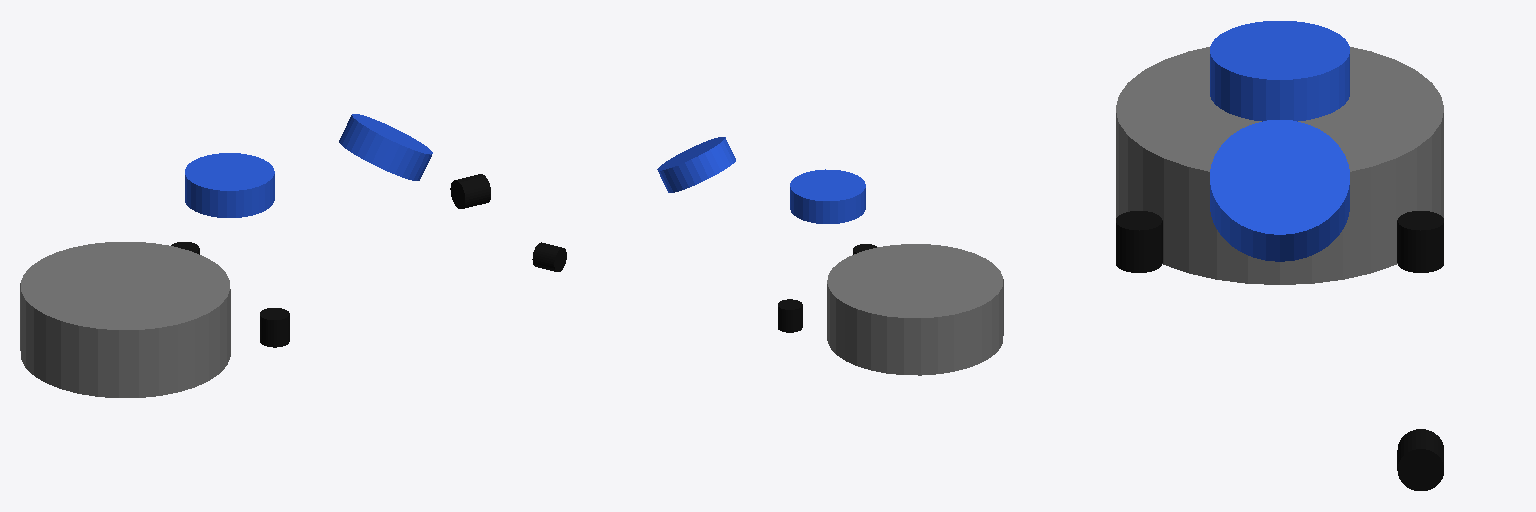
robot.urdf — inpipe_sensors_vlp16_l515:
<?xml version="1.0"?>
<robot name="inpipe_sensors_vlp16_l515" xmlns:xacro="http://www.ros.org/wiki/xacro">


<link name="gazebo_world"/>

<joint name="world_to_base" type="fixed">
  <parent link="gazebo_world"/>
  <child link="base_link"/>
  <origin xyz="0 0 0" rpy="0 0 0"/>
</joint>

<!-- LEFT sonar -->
<link name="sonar_left_link">
  <visual>
    <origin xyz="0 0 0" rpy="0 0 0"/>
    <geometry><cylinder radius="0.01" length="0.02"/></geometry>
    <material name="black"><color rgba="0.1 0.1 0.1 1"/></material>
  </visual>
  <collision>
    <geometry><cylinder radius="0.01" length="0.02"/></geometry>
  </collision>
  <inertial>
    <mass value="0.02"/>
    <inertia ixx="1e-5" iyy="1e-5" izz="1e-5" ixy="0" ixz="0" iyz="0"/>
  </inertial>
</link>

<joint name="base_to_sonar_left" type="fixed">
  <!-- ~6 cm to the left of the camera -->
  <origin xyz="0.08 0.06 0" rpy="0 0 0"/>
  <parent link="base_link"/>
  <child  link="sonar_left_link"/>
</joint>

<!-- RIGHT sonar -->
<link name="sonar_right_link">
  <visual>
    <origin xyz="0 0 0" rpy="0 0 0"/>
    <geometry><cylinder radius="0.01" length="0.02"/></geometry>
    <material name="black"><color rgba="0.1 0.1 0.1 1"/></material>
  </visual>
  <collision>
    <geometry><cylinder radius="0.01" length="0.02"/></geometry>
  </collision>
  <inertial>
    <mass value="0.02"/>
    <inertia ixx="1e-5" iyy="1e-5" izz="1e-5" ixy="0" ixz="0" iyz="0"/>
  </inertial>
</link>

<joint name="base_to_sonar_right" type="fixed">
  <!-- ~6 cm to the right of the camera -->
  <origin xyz="0.08 -0.06 0" rpy="0 0 0"/>
  <parent link="base_link"/>
  <child  link="sonar_right_link"/>
</joint>

<!-- Laser Profiler -->
<link name="laser_profiler_link">
  <visual>
    <origin xyz="0 0 0" rpy="0 0 0"/>
    <geometry><cylinder radius="0.01" length="0.02"/></geometry>
    <material name="black"><color rgba="0.1 0.1 0.1 1"/></material>
  </visual>
  <collision>
    <geometry><cylinder radius="0.01" length="0.02"/></geometry>
  </collision>
  <inertial>
    <mass value="0.02"/>
    <inertia ixx="1e-5" iyy="1e-5" izz="1e-5" ixy="0" ixz="0" iyz="0"/>
  </inertial>
</link>

<!--<joint name="base_to_laser_profiler" type="fixed">-->
<!--  <origin xyz="0.7 -0.06 0" rpy="0 1.5708 0"/>-->
<!--  <parent link="base_link"/>-->
<!--  <child  link="laser_profiler_link"/>-->
<!--</joint>-->

<joint name="base_to_laser_profiler" type="fixed">
  <origin xyz="0.3 0.06 0" rpy="0 1.5708 0"/>
  <parent link="base_link"/>
  <child  link="laser_profiler_link"/>
</joint>


  <!-- ================= Base ================= -->
  <link name="base_link">
    <inertial>
      <origin xyz="0 0 0" rpy="0 0 0"/>
      <mass value="1.0"/>
      <inertia ixx="0.002" ixy="0" ixz="0" iyy="0.002" iyz="0" izz="0.002"/>
    </inertial>
    <visual>
      <origin xyz="0 0 0" rpy="0 0 0"/>
      <geometry><cylinder radius="0.07" length="0.05"/></geometry>
      <material name="Gray"><color rgba="0.5 0.5 0.5 1"/></material>
    </visual>
    <collision>
      <origin xyz="0 0 0" rpy="0 0 0"/>
      <geometry><cylinder radius="0.07" length="0.05"/></geometry>
    </collision>
  </link>

  <!-- ================= VLP16-like LiDAR link ================= -->
  <link name="lidar_link">
    <inertial>
      <origin xyz="0 0 0" rpy="0 0 0"/>
      <mass value="0.3"/>
      <inertia ixx="0.0005" ixy="0" ixz="0" iyy="0.0005" iyz="0" izz="0.0005"/>
    </inertial>
    <visual>
      <origin xyz="0 0 0" rpy="0 0 0"/>
      <geometry><cylinder radius="0.03" length="0.02"/></geometry>
      <material name="Blue"><color rgba="0.2 0.4 0.9 1"/></material>
    </visual>
    <collision>
      <origin xyz="0 0 0" rpy="0 0 0"/>
      <geometry><cylinder radius="0.03" length="0.02"/></geometry>
    </collision>
  </link>
  
  <link name="rplidar_link">
    <inertial>
      <origin xyz="0 0 0" rpy="0 0 0"/>
      <mass value="0.3"/>
      <inertia ixx="0.0005" ixy="0" ixz="0" iyy="0.0005" iyz="0" izz="0.0005"/>
    </inertial>
    <visual>
      <origin xyz="0 0 0" rpy="0 0 0"/>
      <geometry><cylinder radius="0.03" length="0.02"/></geometry>
      <material name="Blue"><color rgba="0.2 0.4 0.9 1"/></material>
    </visual>
    <collision>
      <origin xyz="0 0 0" rpy="0 0 0"/>
      <geometry><cylinder radius="0.03" length="0.02"/></geometry>
    </collision>
  </link>

  <!-- ================= L515-like sensor link ================= -->
  <link name="l515_link">
    <inertial>
      <origin xyz="0 0 0" rpy="0 0 0"/>
      <mass value="0.1"/>
      <inertia ixx="0.0002" ixy="0" ixz="0" iyy="0.0002" iyz="0" izz="0.0002"/>
    </inertial>
    <visual>
      <origin xyz="0 0 0" rpy="0 0 0"/>
      <geometry><cylinder radius="0.03" length="0.026"/></geometry>
      <material name="Black"><color rgba="0.1 0.1 0.1 1"/></material>
    </visual>
    <collision>
      <origin xyz="0 0 0" rpy="0 0 0"/>
      <geometry><cylinder radius="0.03" length="0.026"/></geometry>
    </collision>
  </link>

  <!-- ================= Fixed joints (both to base_link) ================= -->
  <joint name="base_to_lidar" type="fixed">
    <parent link="base_link"/>
    <child link="lidar_link"/>
    <origin xyz="0.2 0 0.08" rpy="0 0.523599 0"/>  <!-- offset forward & up 0.523599 --> 
  </joint>
  
  <joint name="base_to_rplidar" type="fixed">
    <parent link="base_link"/>
    <child link="rplidar_link"/>
    <origin xyz="0.08 0 0.08" rpy="0 0 0"/>  <!-- offset forward & up -->
  </joint>
  
  

  <joint name="base_to_l515" type="fixed">
    <parent link="base_link"/>
    <child link="l515_link"/>
    <origin xyz="0.0 0 0.0" rpy="0 0 0"/> <!-- offset backward & up -->
  </joint>
<!--   Optical frames (REP-103) -->
  <link name="l515_depth_optical_frame"/>
  <joint name="l515_depth_optical_joint" type="fixed">
    <parent link="l515_link"/>
    <child  link="l515_depth_optical_frame"/>
    <origin xyz="0 0 0" rpy="-1.5708 0 -1.5708"/>
  </joint>
  <link name="l515_color_optical_frame"/>
  <joint name="l515_color_optical_joint" type="fixed">
    <parent link="l515_link"/>
    <child  link="l515_color_optical_frame"/>
    <origin xyz="0 0 0" rpy="-1.5708 0 -1.5708"/>
  </joint>
  
<!--  <link name="l515_depth_optical_frame"/>-->
<!--  <joint name="l515_depth_optical_joint" type="fixed">-->
<!--    <parent link="l515_link"/>-->
<!--    <child  link="l515_depth_optical_frame"/>-->
<!--    <origin xyz="0 0 0" rpy="0 0 0"/>-->
<!--  </joint>-->
<!--  <link name="l515_color_optical_frame"/>-->
<!--  <joint name="l515_color_optical_joint" type="fixed">-->
<!--    <parent link="l515_link"/>-->
<!--    <child  link="l515_color_optical_frame"/>-->
<!--    <origin xyz="0 0 0" rpy="0 0 0"/>-->
<!--  </joint>-->

  <!-- ================= Gazebo ROS core ================= -->
  <gazebo>
    <plugin name="ros_init" filename="libgazebo_ros_init.so"/>
    <plugin name="ros_factory" filename="libgazebo_ros_factory.so"/>
  </gazebo>
  
  
  <gazebo reference="rplidar_link">
    <sensor name="rplidar_like" type="ray">
      <update_rate>10</update_rate> <!-- 10 Hz ~ 600 RPM -->
      <ray>
        <scan>
          <horizontal>
            <samples>1800</samples>     <!-- ~0.2° azimuth -->
            <resolution>1</resolution>
            <min_angle>-3.14159265359</min_angle>
            <max_angle> 3.14159265359</max_angle>
          </horizontal>
        </scan>
        <range>
          <min>0.1</min>
          <max>100.0</max>
          <resolution>0.01</resolution>
        </range>
        <noise>
          <type>gaussian</type>
          <mean>0.0</mean>
          <stddev>0.02</stddev>
        </noise>
      </ray>

      <plugin name="rplidar_ros" filename="libgazebo_ros_ray_sensor.so">
        <ros>
          <namespace>/inpipe_bot</namespace>
          <remapping>~/out:=/inpipe_bot/rplidar/points</remapping>
        </ros>
        <output_type>sensor_msgs/PointCloud2</output_type>
        <frame_name>rplidar_link</frame_name>
      </plugin>
    </sensor>
  </gazebo>
  
  
  <gazebo reference="laser_profiler_link">
    <sensor name="laser_profiler_like" type="ray">
      <update_rate>10</update_rate> 
      <ray>
        <scan>
          <horizontal>
            <samples>1800</samples>     
            <resolution>1</resolution>
            <min_angle>-3.14159265359</min_angle>
            <max_angle> 3.14159265359</max_angle>
          </horizontal>
        </scan>
        <range>
          <min>0.1</min>
          <max>100.0</max>
          <resolution>0.00</resolution>
        </range>
        <noise>
          <type>gaussian</type>
          <mean>0.0</mean>
          <stddev>0.00</stddev>
        </noise>
      </ray>

      <plugin name="laser_profiler_ros" filename="libgazebo_ros_ray_sensor.so">
        <ros>
          <namespace>/inpipe_bot</namespace>
          <remapping>~/out:=/inpipe_bot/laser_profiler/points</remapping>
        </ros>
        <output_type>sensor_msgs/PointCloud2</output_type>
        <frame_name>laser_profiler_link</frame_name>
      </plugin>
    </sensor>
  </gazebo>

  <!-- ================= VLP16-like multi-ray sensor ================= -->
<!--  <gazebo reference="lidar_link">-->
<!--    <sensor name="vlp16_like" type="ray">-->
<!--      <update_rate>10</update_rate> -->
<!--      <ray>-->
<!--        <scan>-->
<!--          <horizontal>-->
<!--            <samples>1800</samples>     -->
<!--            <resolution>1</resolution>-->
<!--            <min_angle>-3.14159265359</min_angle>-->
<!--            <max_angle> 3.14159265359</max_angle>-->
<!--          </horizontal>-->
<!--          <vertical>-->
<!--            <samples>16</samples>       -->
<!--            <resolution>1</resolution>-->
<!--            <min_angle>-0.2617993878</min_angle>  -->
<!--            <max_angle> 0.2617993878</max_angle>  -->
<!--          </vertical>-->
<!--        </scan>-->
<!--        <range>-->
<!--          <min>0.1</min>-->
<!--          <max>100.0</max>-->
<!--          <resolution>0.01</resolution>-->
<!--        </range>-->
<!--        <noise>-->
<!--          <type>gaussian</type>-->
<!--          <mean>0.0</mean>-->
<!--          <stddev>0.02</stddev>-->
<!--        </noise>-->
<!--      </ray>-->

<!--      <plugin name="vlp16_ros" filename="libgazebo_ros_ray_sensor.so">-->
<!--        <ros>-->
<!--          <namespace>/inpipe_bot</namespace>-->
<!--          <remapping>~/out:=/inpipe_bot/lidar/points</remapping>-->
<!--        </ros>-->
<!--        <output_type>sensor_msgs/PointCloud2</output_type>-->
<!--        <frame_name>lidar_link</frame_name>-->
<!--      </plugin>-->
<!--    </sensor>-->
<!--  </gazebo>-->

<gazebo reference="lidar_link">
  <sensor name="mid360_like" type="ray">
    <always_on>true</always_on>
    <visualize>true</visualize>
    <!-- MID-360 frame rate -->
    <update_rate>10</update_rate>  <!-- 10 Hz -->

    <ray>
      <scan>
        <!--=============================-->
        <!--     HORIZONTAL FOV = 360°   -->
        <!--=============================-->
        <horizontal>
          <!-- Visualization only — actual Livox pattern comes from plugin -->
          <samples>720</samples>               <!-- 0.5° angular step -->
          <resolution>1</resolution>
          <min_angle>-3.14159265359</min_angle> <!--  -180° -->
          <max_angle> 3.14159265359</max_angle> <!--  +180° -->
        </horizontal>

        <!--==============================================-->
        <!--  VERTICAL FOV = -7° to +52° (MID-360 specs)  -->
        <!--==============================================-->
        <vertical>
          <samples>60</samples>                <!-- ~1° angular step -->
          <resolution>1</resolution>
          <min_angle>-0.1221730476</min_angle> <!--  -7°  -->
          <max_angle> 0.9075712110</max_angle> <!-- +52° -->
        </vertical>
      </scan>

      <!--=========================-->
      <!--     RANGE (MID-360)     -->
      <!--=========================-->
      <range>
        <min>0.1</min>          <!-- Blind zone: 0.1 m -->
        <max>70.0</max>         <!-- 70 m @ 80% reflectivity -->
        <resolution>0.01</resolution>  <!-- 1 cm -->
      </range>

      <!--========================================-->
      <!--   RANGE NOISE (1σ ≈ 2 cm @ 10 m)       -->
      <!--========================================-->
      <noise>
        <type>gaussian</type>
        <mean>0.0</mean>
        <stddev>0.02</stddev>  <!-- 2 cm -->
      </noise>
    </ray>

    <!--=====================================================-->
    <!--      ROS plugin output — same style as VLP16        -->
    <!--=====================================================-->
    <plugin name="mid360_ros" filename="libgazebo_ros_ray_sensor.so">
      <ros>
        <namespace>/inpipe_bot</namespace>
        <remapping>~/out:=/inpipe_bot/lidar/points</remapping>
      </ros>
      <output_type>sensor_msgs/PointCloud2</output_type>
      <frame_name>lidar_link</frame_name>
    </plugin>
  </sensor>
</gazebo>


  <!-- ================= L515-like depth sensor (depth + optional RGB) ================= -->
  <gazebo reference="l515_link">
    <sensor name="l515_depth" type="depth">
      <always_on>true</always_on>
      <update_rate>10</update_rate>
      <visualize>false</visualize>
      <camera>
        <horizontal_fov>1.2217304764</horizontal_fov> <!-- ~70 deg -->
        <image>
          <width>640</width>
          <height>480</height>
          <format>R8G8B8</format>
          <noise>
          <type>gaussian</type>
          <mean>0.9</mean>
          <stddev>0.1</stddev>  <!-- 5 mm noise -->
        </noise>
        </image>
        <clip>
          <near>0.25</near>
<!--          <far>9.0</far>-->
          <far>4.0</far>
        </clip>
        
      </camera>
      <plugin name="gazebo_ros_depth_camera" filename="libgazebo_ros_camera.so">
        <ros>
          <namespace>/inpipe_bot/l515</namespace>
          <remapping>~/camera_info_depth:=/inpipe_bot/l515/depth/image_raw</remapping>
          <remapping>~/camera_info:=/inpipe_bot/l515/depth/camera_info</remapping>
          <remapping>~/image_depth:=/inpipe_bot/l515/depth/image_depth</remapping>
          <remapping>~/points:=/inpipe_bot/l515/depth/points</remapping>
          <remapping>~/image_raw:=/inpipe_bot/l515/depth/image_raw</remapping>
        </ros>
        <frame_name>l515_depth_optical_frame</frame_name>
        <pointCloud>true</pointCloud>
        <pointCloudCutoff>0.25</pointCloudCutoff>
        <pointCloudCutoffMax>9.0</pointCloudCutoffMax>
        <pointCloudNoise>true</pointCloudNoise>
      <pointCloudNoiseType>gaussian</pointCloudNoiseType>
      <pointCloudNoiseMean>0.9</pointCloudNoiseMean>
      <pointCloudNoiseStddev>0.01</pointCloudNoiseStddev>
      </plugin>
    </sensor>

    <!-- Optional RGB camera stream -->
    <sensor name="l515_rgb" type="camera">
      <always_on>true</always_on>
      <update_rate>30</update_rate>
      <visualize>false</visualize>
      <camera>
        <horizontal_fov>1.2217304764</horizontal_fov>
        <image>
          <width>1920</width>
          <height>1080</height>
          <format>R8G8B8</format>
        </image>
<!--        <noise>-->
<!--          <type>gaussian</type>-->
<!--          <mean>0.9</mean>-->
<!--          <stddev>0.1</stddev>-->
<!--        </noise>-->
        <clip>
          <near>0.25</near>
          <far>15.0</far>
        </clip>
      </camera>
      <plugin name="gazebo_ros_camera" filename="libgazebo_ros_camera.so">
        <ros>
          <namespace>/inpipe_bot/l515</namespace>
          <remapping>~/image:=/inpipe_bot/l515/color/image_raw</remapping>
          <remapping>~/camera_info:=/inpipe_bot/l515/color/camera_info</remapping>
        </ros>
        <frame_name>l515_color_optical_frame</frame_name>
      </plugin>
    </sensor>
  </gazebo>
  
  <gazebo reference="base_link">
    <gravity>false</gravity>
    <self_collide>false</self_collide>
  </gazebo>
  
  <gazebo>
  <plugin name="gazebo_ros_p3d" filename="libgazebo_ros_p3d.so">
    <ros>
      <namespace>/inpipe_bot</namespace>
      <argument>odom:=p3d_demo</argument>
    </ros>
    <frame_name>base_link</frame_name>
    <body_name>gazebo_world</body_name>
    <update_rate>30.0</update_rate>
    <gaussian_noise>0.0</gaussian_noise>
  </plugin>
</gazebo>


<!-- LEFT sonar sensor -->
<gazebo reference="sonar_left_link">
  <sensor name="sonar_left" type="ray">
    <always_on>true</always_on>
    <update_rate>200</update_rate>  <!-- slower than LiDAR -->
    <visualize>true</visualize>

    <ray>
      <scan>
        <horizontal>
          <samples>80</samples>
          <resolution>1</resolution>
          <min_angle>-0.0174533*2</min_angle>  <!-- -15° -->
          <max_angle> 0.0174533*2</max_angle>  <!-- +15° -->
        </horizontal>
        <vertical>
          <samples>50</samples>
          <resolution>1</resolution>
          <min_angle>-0.0174533*2</min_angle>  <!-- -10° -->
          <max_angle> 0.0174533*2</max_angle>  <!-- +10° -->
        </vertical>
      </scan>
      <range>
        <min>0.02</min>
        <max>10</max>         <!-- GY-US42 max range -->
        <resolution>0.01</resolution>
      </range>
      <noise>
        <type>gaussian</type>
        <mean>0.0</mean>
        <stddev>0.001</stddev>
      </noise>
    </ray>

    <plugin name="gazebo_ros_sonar" filename="libgazebo_ros_ray_sensor.so">
      <ros>
        <namespace>/inpipe_bot</namespace>
        <remapping>~/out:=sonar/left/range</remapping>
        <output_type>Range</output_type>
      </ros>
      <frame_name>sonar_left_link</frame_name>
    </plugin>
  </sensor>
</gazebo>



<!-- RIGHT sonar sensor -->
<gazebo reference="sonar_right_link">
  <sensor name="sonar_right" type="ray">
    <always_on>true</always_on>
    <update_rate>15</update_rate>
    <visualize>true</visualize>
    <ray>
      <scan>
        <horizontal>
          <samples>80</samples>
          <resolution>1</resolution>
          <min_angle>-0.0174533*2</min_angle>
          <max_angle> 0.0174533*2</max_angle>
        </horizontal>
        <vertical>
          <samples>50</samples>
          <resolution>1</resolution>
          <min_angle>-0.0174533*2</min_angle>
          <max_angle>0.0174533*2</max_angle>
        </vertical>
      </scan>
      <range>
        <min>0.02</min>
        <max>10.0</max>
        <resolution>0.01</resolution>
      </range>
      <noise>
        <type>gaussian</type>
        <mean>0.0</mean>
        <stddev>0.001</stddev>
      </noise>
    </ray>

    <plugin name="gazebo_ros_sonar_right" filename="libgazebo_ros_ray_sensor.so">
      <ros>
        <namespace>/inpipe_bot</namespace>
        <remapping>~/out:=sonar/right/range</remapping>
        <output_type>Range</output_type>
      </ros>
      <frame_name>sonar_right_link</frame_name>
    </plugin>
  </sensor>
</gazebo>


<!-- ============ IMU ============ -->
<link name="imu_link">
<visual>
<origin xyz="0 0 0" rpy="0 0 0"/>
<geometry><box size="0.03 0.03 0.01"/></geometry>
<material name="blue"><color rgba="0.2 0.4 0.8 1"/></material>
</visual>
<collision>
<origin xyz="0 0 0" rpy="0 0 0"/>
<geometry><box size="0.03 0.03 0.01"/></geometry>
</collision>
<inertial>
<origin xyz="0 0 0" rpy="0 0 0"/>
<mass value="0.03"/>
<inertia ixx="1e-5" ixy="0" ixz="0" iyy="1e-5" iyz="0" izz="2e-5"/>
</inertial>
</link>


<joint name="base_to_imu" type="fixed">
<!-- Adjust pose relative to base_link as needed -->
<origin xyz="0 0 0.0" rpy="0 0 0"/>
<parent link="base_link"/>
<child link="imu_link"/>
</joint>


<!-- Gazebo IMU sensor publishing to ROS 2 -->
<gazebo reference="imu_link">
<sensor name="imu_sensor" type="imu">
<always_on>true</always_on>
<update_rate>200</update_rate>
<visualize>false</visualize>


<!-- Simple noise model (tweak to match your IMU) -->
<imu>
<orientation>
<x>
<noise type="gaussian">
<mean>0.0</mean>
<stddev>0.001</stddev>
<bias_mean>0.0</bias_mean>
<bias_stddev>0.0001</bias_stddev>
</noise>
</x>
<y>
<noise type="gaussian">
<mean>0.0</mean>
<stddev>0.001</stddev>
<bias_mean>0.0</bias_mean>
<bias_stddev>0.0001</bias_stddev>
</noise>
</y>
<z>
<noise type="gaussian">
<mean>0.0</mean>
<stddev>0.001</stddev>
<bias_mean>0.0</bias_mean>
<bias_stddev>0.0001</bias_stddev>
</noise>
</z>
</orientation>
<angular_velocity>
<x>
<noise type="gaussian">
<mean>0.0</mean>
<stddev>0.001</stddev>
<bias_mean>0.0</bias_mean>
<bias_stddev>0.0001</bias_stddev>
</noise>
</x>
<y>
<noise type="gaussian">
<mean>0.0</mean>
<stddev>0.001</stddev>
<bias_mean>0.0</bias_mean>
<bias_stddev>0.0001</bias_stddev>
</noise>
</y>
<z>
<noise type="gaussian">
<mean>0.0</mean>
<stddev>0.001</stddev>
<bias_mean>0.0</bias_mean>
<bias_stddev>0.0001</bias_stddev>
</noise>
</z>
</angular_velocity>
<linear_acceleration>
<x>
<noise type="gaussian">
<mean>0.0</mean>
<stddev>0.03</stddev>
<bias_mean>0.0</bias_mean>
<bias_stddev>0.001</bias_stddev>
</noise>
</x>
<y>
<noise type="gaussian">
<mean>0.0</mean>
<stddev>0.03</stddev>
<bias_mean>0.0</bias_mean>
<bias_stddev>0.001</bias_stddev>
</noise>
</y>
<z>
<noise type="gaussian">
<mean>0.0</mean>
<stddev>0.03</stddev>
<bias_mean>0.0</bias_mean>
<bias_stddev>0.001</bias_stddev>
</noise>
</z>
</linear_acceleration>
</imu>


<plugin name="imu_plugin" filename="libgazebo_ros_imu_sensor.so">
<ros>
<namespace>/inpipe_bot</namespace>
<!-- Remap internal topic (~/out) to standard /imu -->
<remapping>~/out:=imu/data</remapping>
</ros>
<frame_name>imu_link</frame_name>
</plugin>
</sensor>
</gazebo>


  <!-- ============ Optional: publish Gazebo state to TF ============ -->
  <gazebo>
    <plugin name="tf_publisher" filename="libgazebo_ros_state.so">
      <ros>
        <namespace>/inpipe_bot</namespace>
      </ros>
      <publish_tf>true</publish_tf>
      <update_rate>30</update_rate>
    </plugin>
  </gazebo>



</robot>

--- Facts derived from the render (not from the file) ---
Views: 3 orthographic renders of the robot side by side, from view 1: azimuth 30°, elevation 25°; view 2: azimuth 150°, elevation 25°; view 3: azimuth 270°, elevation 25°.
Robot: inpipe_sensors_vlp16_l515 — 11 links, 10 joints (10 fixed); root link gazebo_world; default pose: all joints at 0.
Links seen in each view (by area): view 1: base_link, rplidar_link, lidar_link, laser_profiler_link, sonar_right_link; view 2: base_link, rplidar_link, lidar_link, laser_profiler_link, sonar_left_link; view 3: base_link, lidar_link, rplidar_link, sonar_left_link, sonar_right_link, laser_profiler_link.
Link boxes in pixels (bbox=[...]): base_link: bbox=[20, 242, 230, 397]; rplidar_link: bbox=[185, 153, 274, 217]; lidar_link: bbox=[339, 114, 432, 180]; laser_profiler_link: bbox=[450, 174, 490, 208]; sonar_right_link: bbox=[260, 308, 289, 347]; base_link: bbox=[827, 244, 1003, 375]; rplidar_link: bbox=[790, 169, 865, 223]; lidar_link: bbox=[657, 137, 735, 192]; laser_profiler_link: bbox=[532, 242, 566, 271]; sonar_left_link: bbox=[778, 299, 802, 332]; base_link: bbox=[1116, 47, 1443, 284]; lidar_link: bbox=[1210, 120, 1349, 261]; rplidar_link: bbox=[1210, 21, 1349, 121]; sonar_left_link: bbox=[1397, 211, 1443, 272]; sonar_right_link: bbox=[1116, 211, 1162, 272]; laser_profiler_link: bbox=[1397, 429, 1443, 490].
Size in the robot's own frame: 0.38 by 0.14 by 0.1287 metres.
Geometry: primitives only (box / cylinder / sphere), no mesh files.
